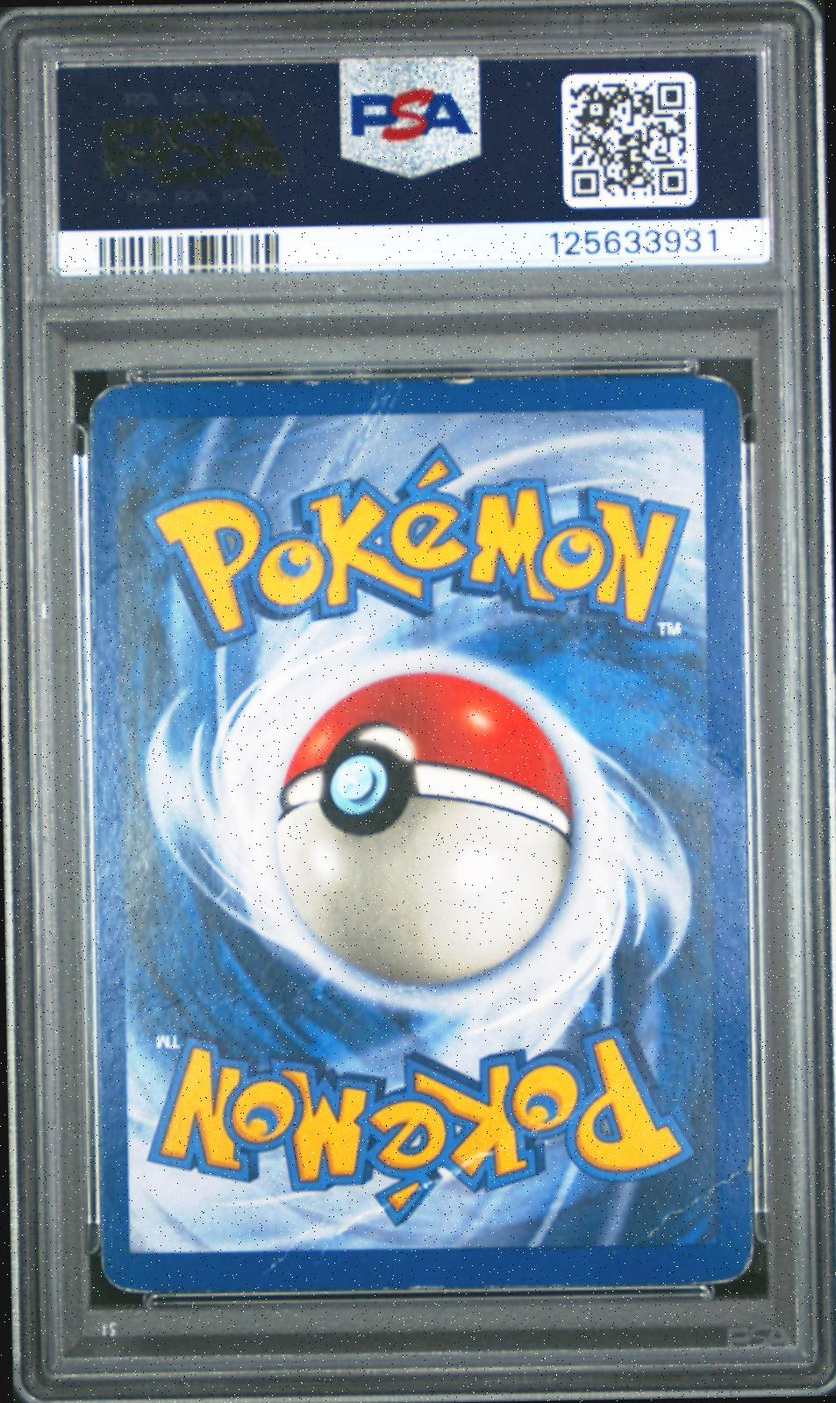card-2UtV: (87, 374, 755, 1294)
